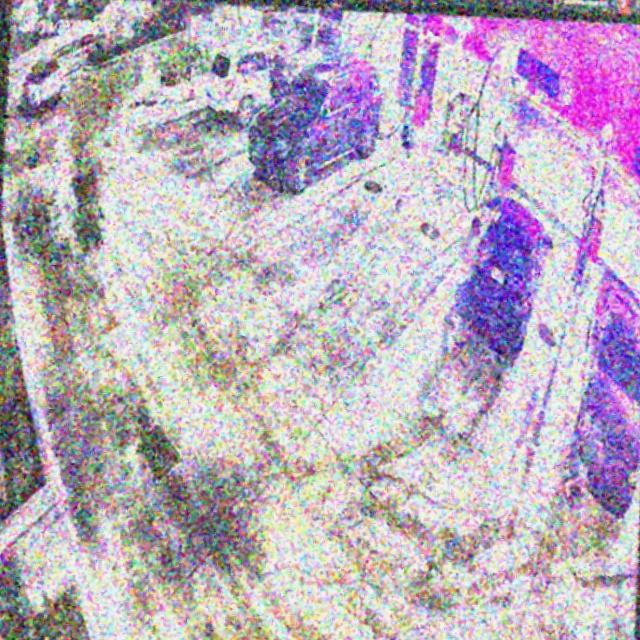Car: (248, 49, 385, 197), (457, 193, 557, 360)
